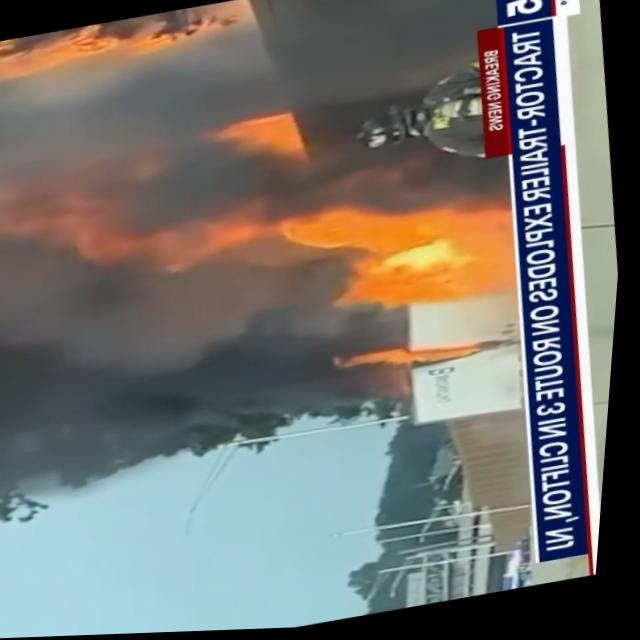Fire: (266, 180, 531, 356), (39, 183, 260, 297), (18, 4, 228, 106), (194, 99, 326, 189)
